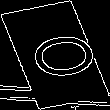O_E: (12, 27, 98, 83)
